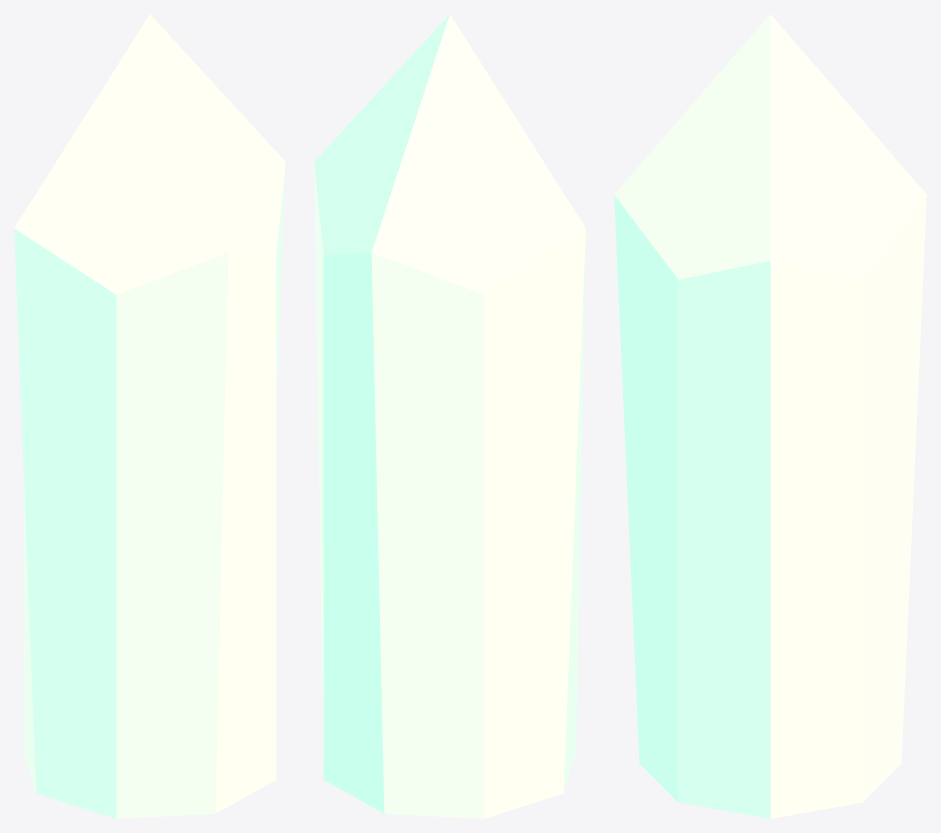
File: Crystal_MedLength_single.fbx
3 renders of one model, left to right at view 1: azimuth 30°, elevation 25°; view 2: azimuth 150°, elevation 25°; view 3: azimuth 270°, elevation 25°, orthographic.
Visible parts, largest first — view 1: Cube; view 2: Cube; view 3: Cube.
Part boxes in pixels (left/top/right/bottom): Cube: left=14, top=14, right=285, bottom=818; Cube: left=314, top=14, right=585, bottom=818; Cube: left=614, top=14, right=926, bottom=818.
Size of the model in its own units: 239 by 631 by 239.
